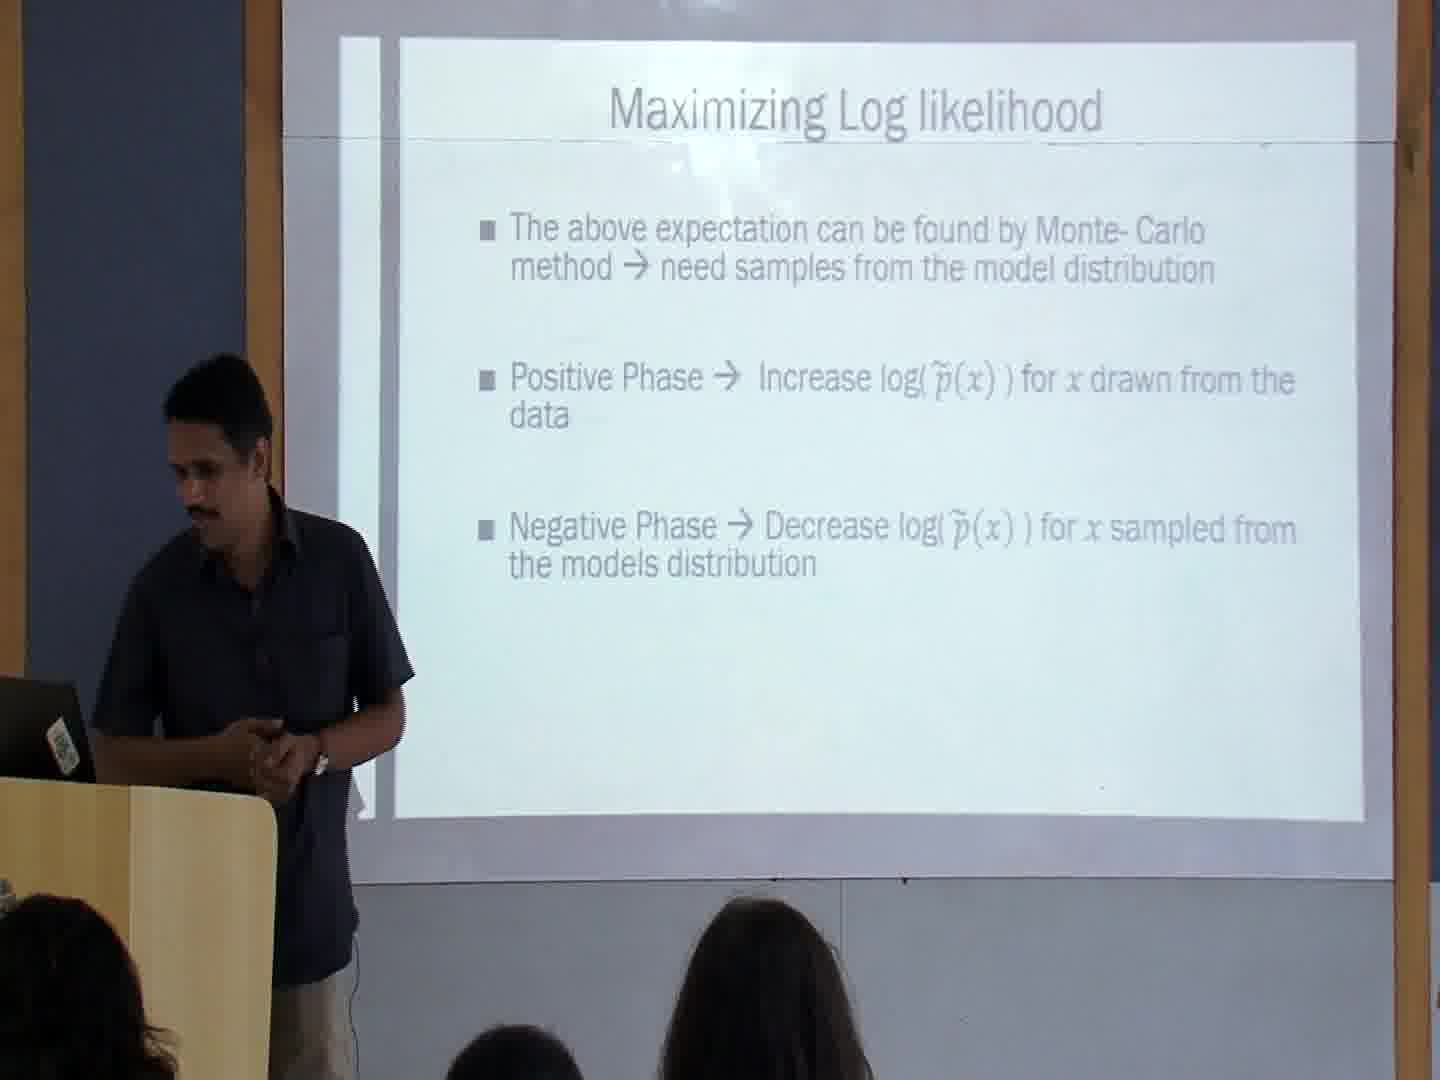slide: (337, 33, 1364, 820)
